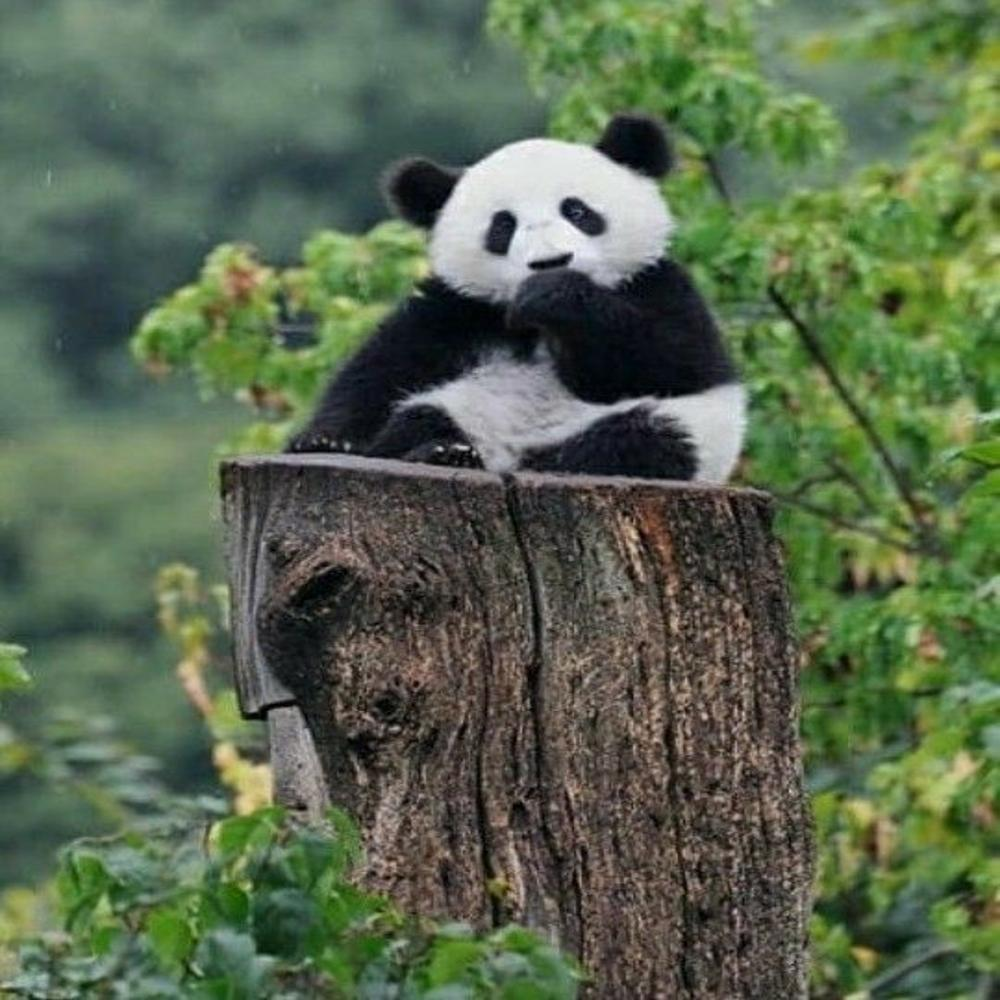panda: (284, 110, 767, 496)
